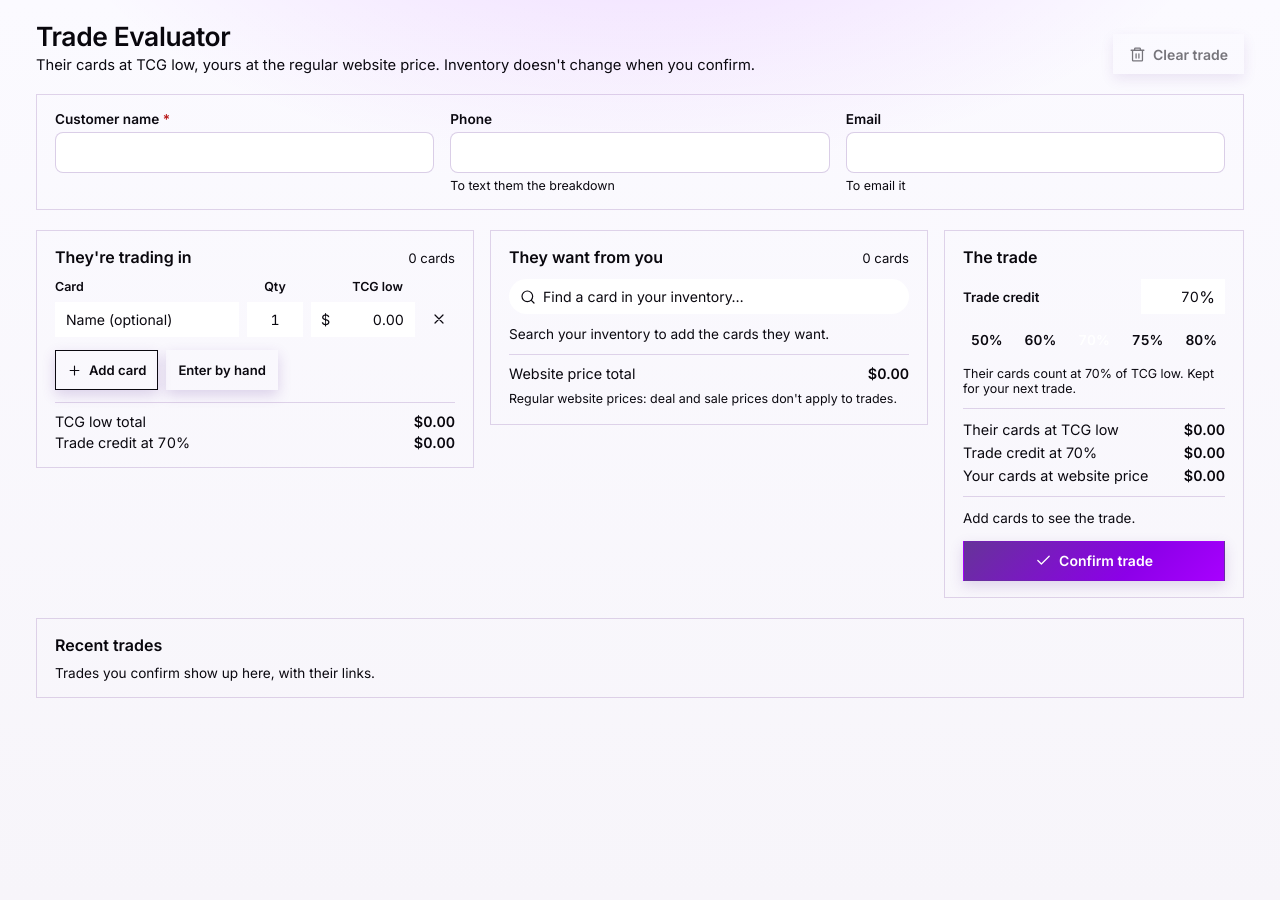
Test: Trade Evaluator › needs the customer's name to confirm
Type "10" into the field with placeholder "0.00" at (363, 319), box [311,302,415,337]
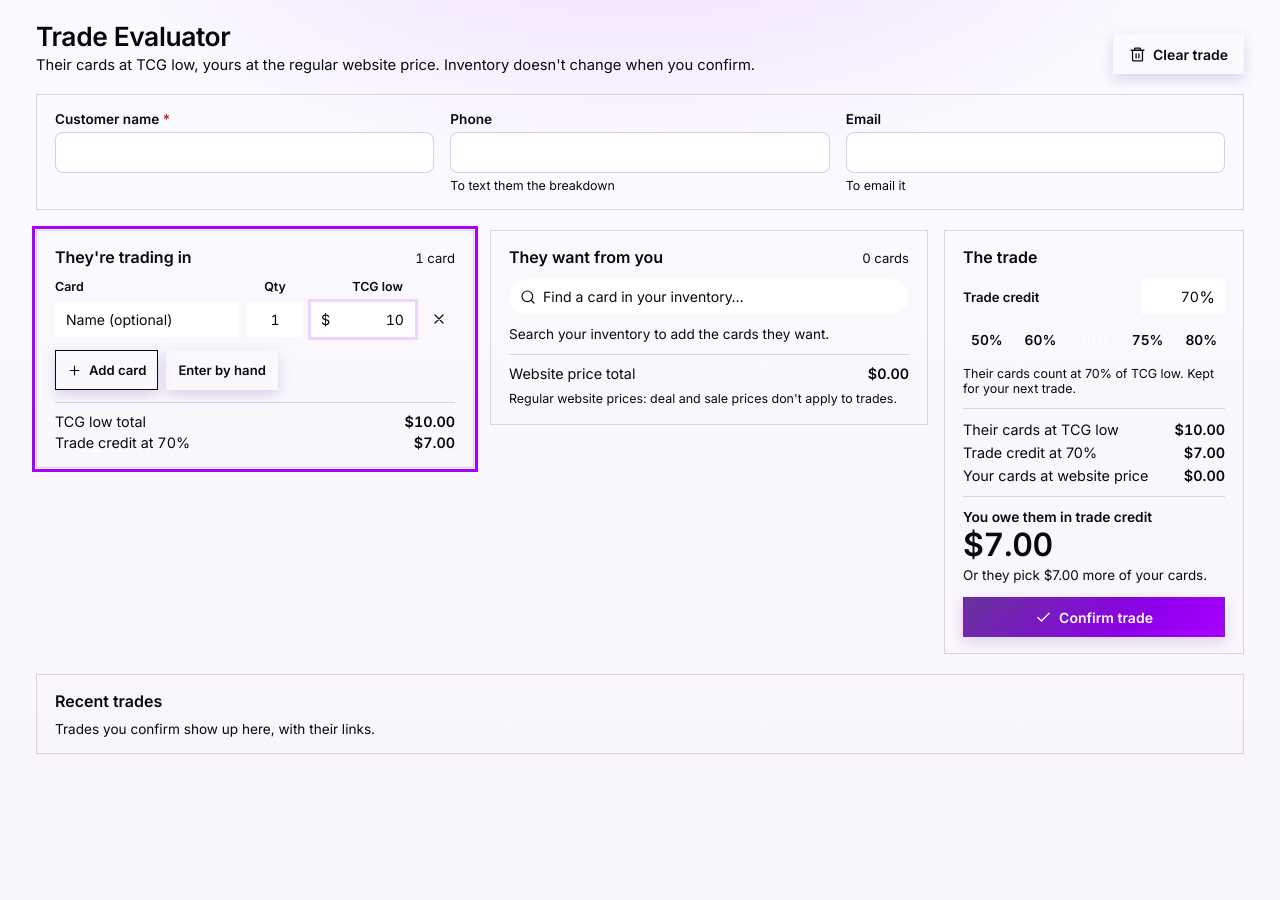
Click the button "Confirm trade" at (1094, 618), box [963,598,1225,638]
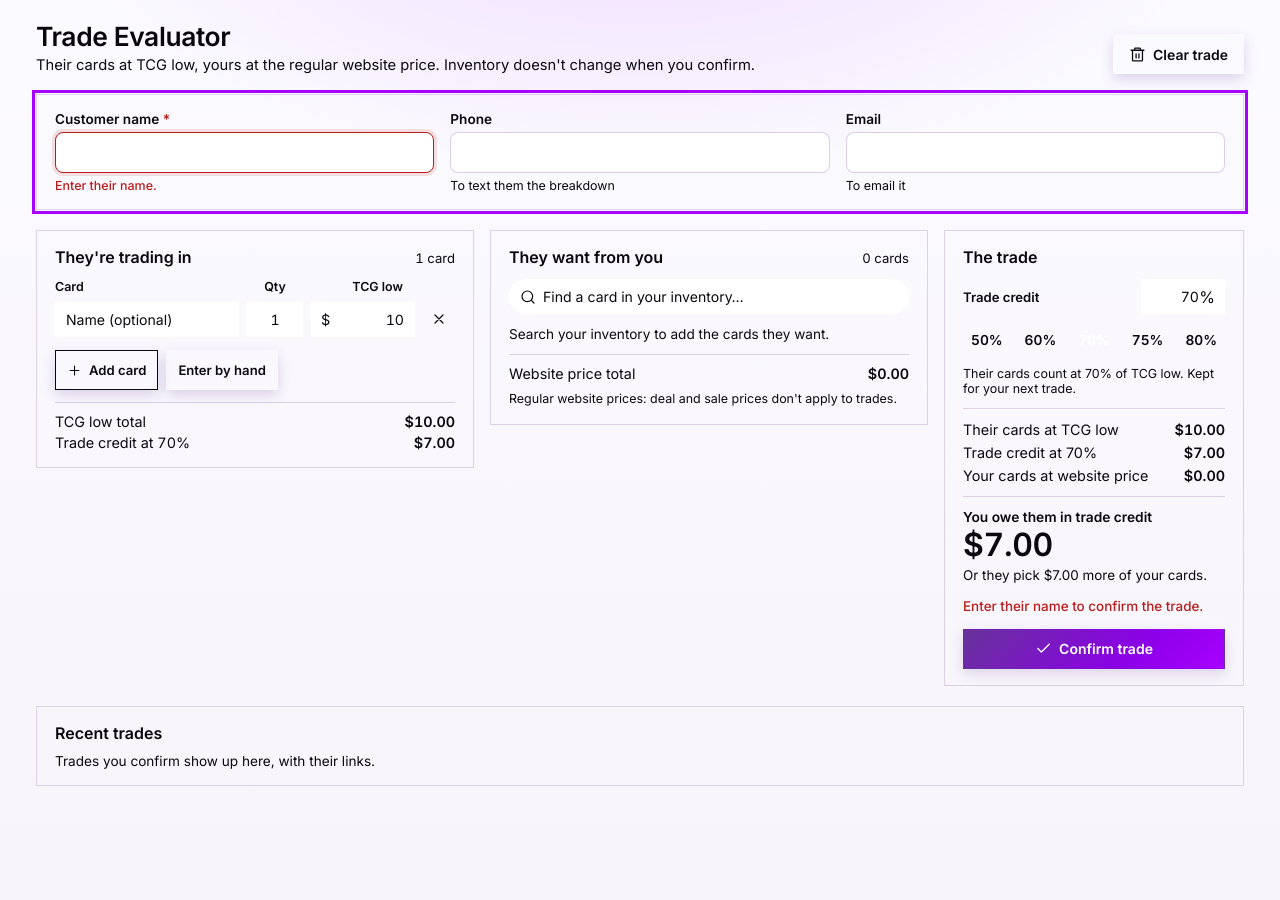
Check: the message "Enter their name to confirm the trade." is shown, box [963,598,1225,617]
Check: the text "Enter their name." is shown, box [55,178,157,193]
# Typing it clears both.
Type "Sam" into the field labelled "Customer name *" at (245, 153), box [55,132,434,173]
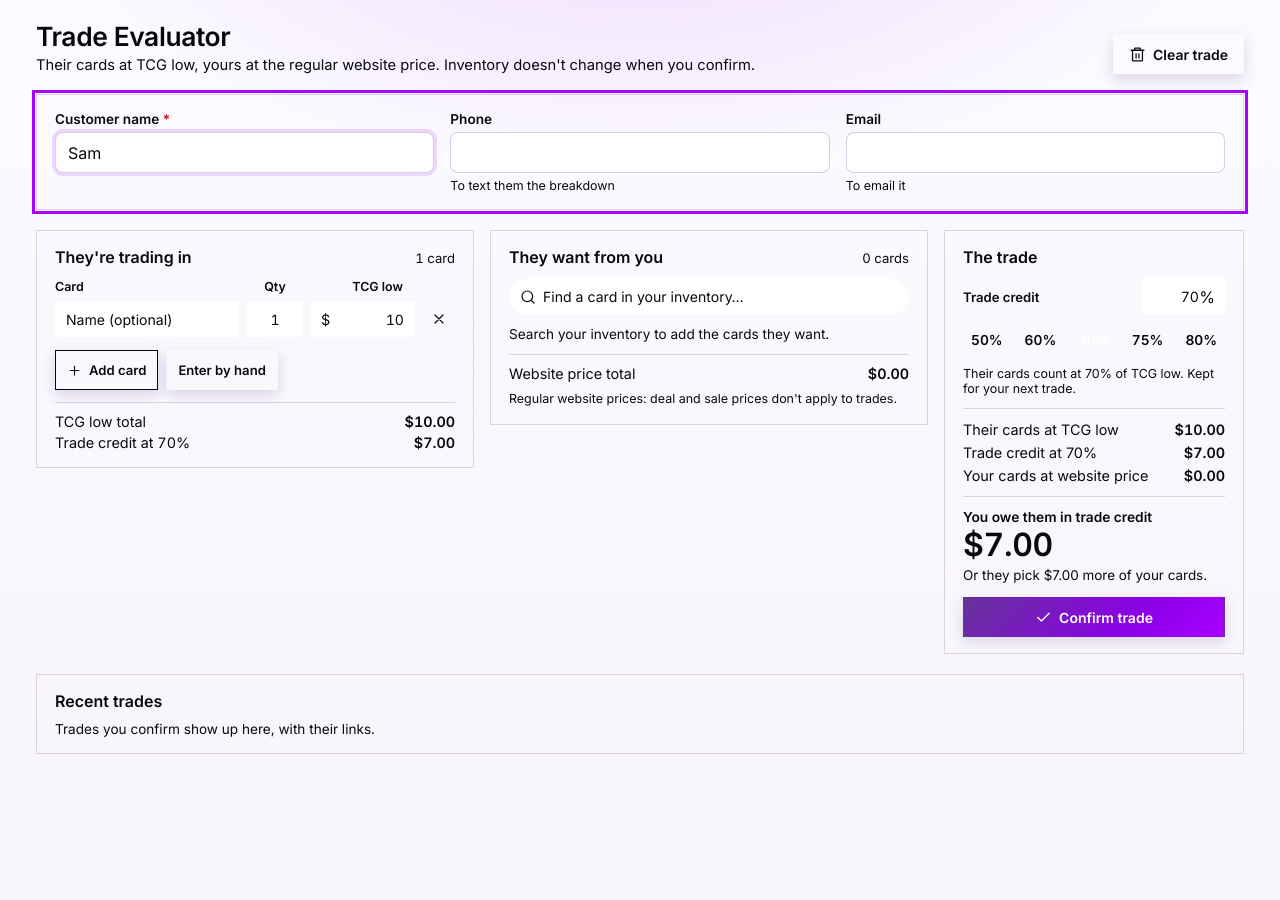
Check: the message "Enter their name." is gone
Check: the text "Enter their name." is gone
